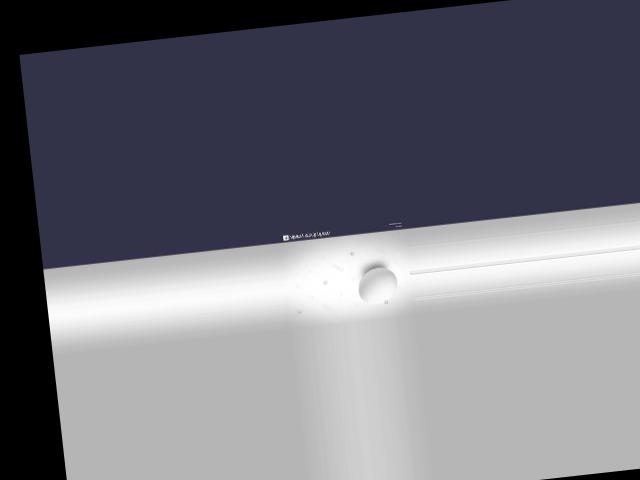egg: (357, 264, 400, 304)
